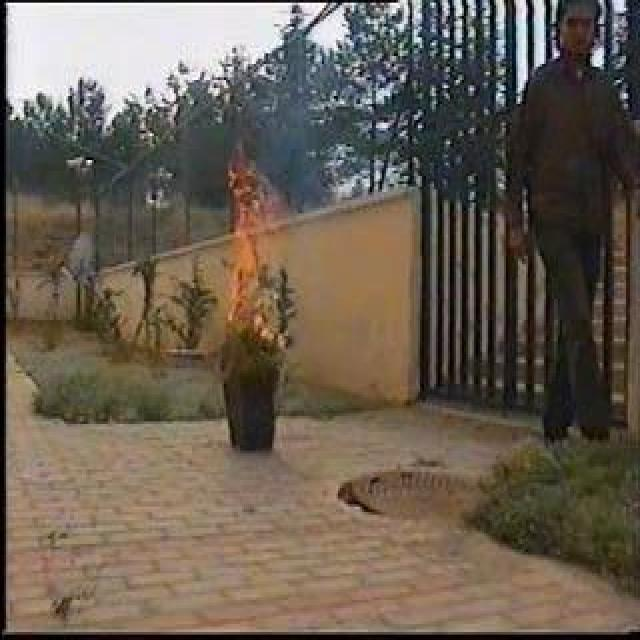fire: (222, 165, 272, 331)
